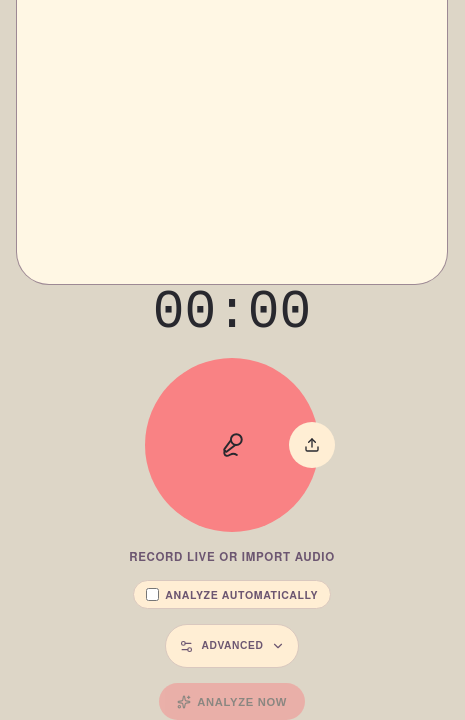
it: Recorder › advanced options › expands advanced section when clicked
This screenshot has width=465, height=720.
(page scrolled)
Click the button with aria-label "show advanced options". click: (232, 646)
box: 165,624 -> 299,668
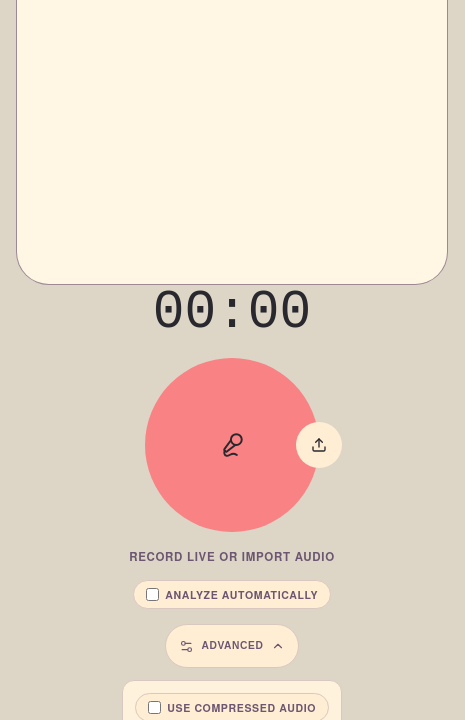
Expected: the button with aria-label "hide advanced options" is expanded, 165,624 -> 299,668
Expected: the checkbox labelled "Use compressed audio" is shown, 148,701 -> 161,714
